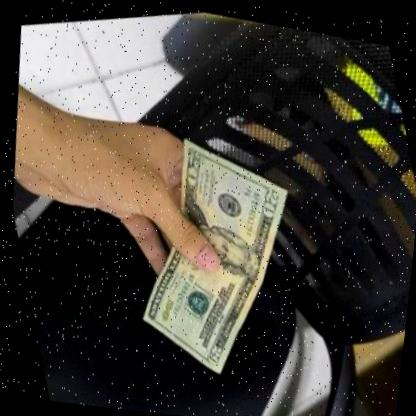dollar_front: (77, 97, 346, 402)
